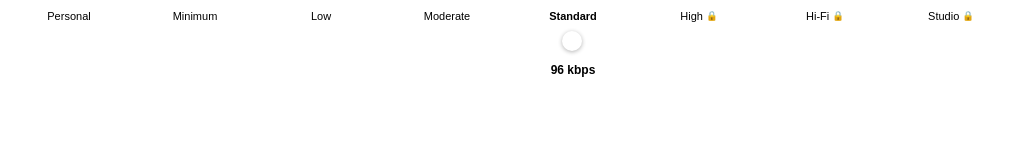
ChannelAudioQualitySlider › selecting a locked tier only shows the lock hint
The width and height of the screenshot is (1022, 160).
What coordinates should you click on to do the following:
click the button "Studio🔒"
I would click on:
 (951, 16)
Its box is [888,8,1014,24].
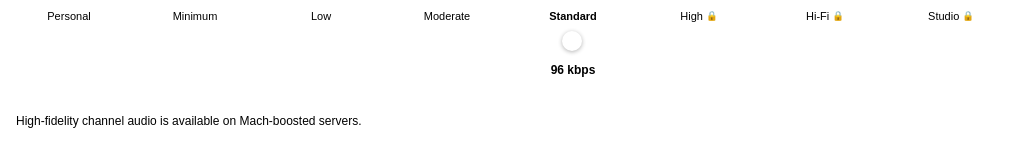
Expected: the text "High-fidelity channel audio is available on Mach-boosted servers." is shown, [16,114,362,128]
